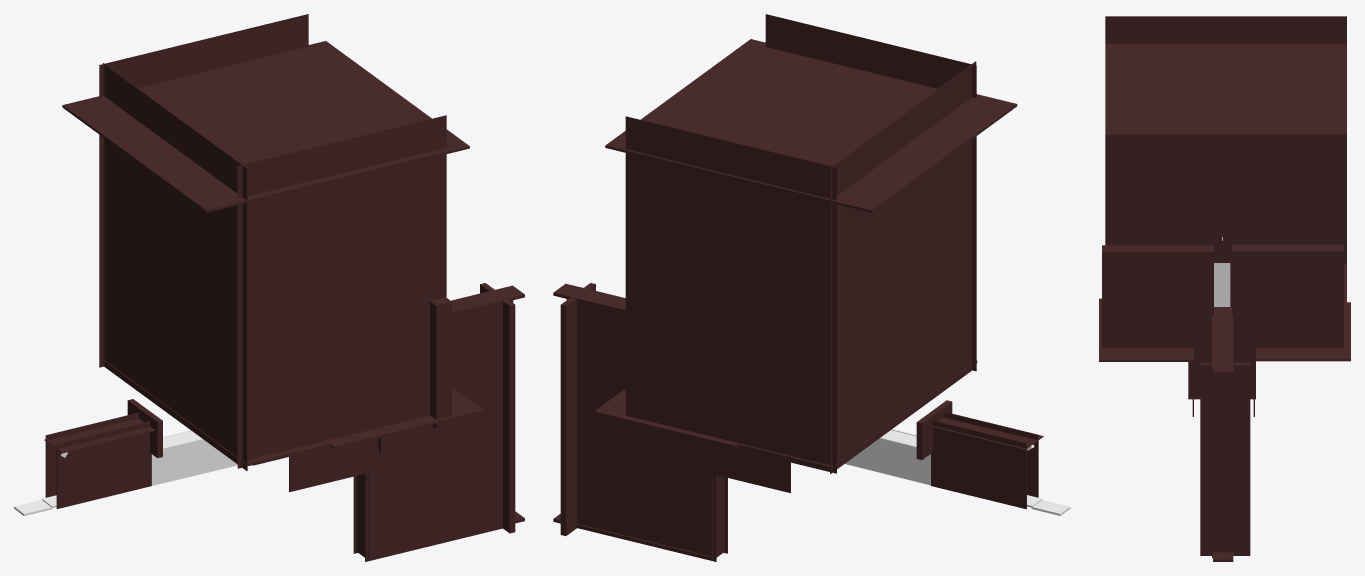
The model's file is Tutorial.fbx.
The picture shows the model from 3 angles, left to right: view 1: azimuth 30°, elevation 25°; view 2: azimuth 150°, elevation 25°; view 3: azimuth 270°, elevation 25°; orthographic projection. The views are drawn at different scales.
Parts seen in each view (by area): view 1: Cube__88_, Cube__86_, Cube__89_, Cube__71_, Cube__87_, Cube__76_, Cube__69_, Cube__72_, Cube__90_, Cube__7_, Cube__83_, Cube__77_ (+5 smaller); view 2: Cube__87_, Cube__86_, Cube__89_, Cube__70_, Cube__88_, Cube__77_, Cube__72_, Cube__68_, Cube__4_, Cube__84_, Cube__76_, Cube__75_ (+5 smaller); view 3: Cube__86_, Cube__89_, Cube__91_, Cube__90_, Cube__72_, Cube__84_, Cube__83_, Cube__75_, Cube__2_, Cube__82_, Cube__81_, Cube__70_.
Boxes of the visible parts, x1,y1,x2,y2 form: Cube__88_: [237, 115, 446, 468]; Cube__86_: [103, 63, 247, 470]; Cube__89_: [62, 41, 469, 212]; Cube__71_: [365, 298, 513, 561]; Cube__87_: [99, 14, 308, 367]; Cube__76_: [56, 421, 151, 508]; Cube__69_: [289, 437, 383, 492]; Cube__72_: [480, 283, 515, 533]; Cube__90_: [430, 297, 452, 428]; Cube__7_: [151, 438, 237, 485]; Cube__83_: [326, 387, 483, 448]; Cube__77_: [45, 413, 138, 497]; Cube__87_: [625, 116, 836, 473]; Cube__86_: [830, 61, 976, 473]; Cube__89_: [605, 39, 1017, 212]; Cube__70_: [566, 299, 716, 561]; Cube__88_: [765, 14, 976, 371]; Cube__77_: [931, 420, 1026, 509]; Cube__72_: [560, 283, 595, 535]; Cube__68_: [695, 439, 790, 492]; Cube__4_: [845, 437, 930, 485]; Cube__84_: [594, 389, 738, 447]; Cube__76_: [944, 412, 1038, 497]; Cube__75_: [553, 283, 625, 312]; Cube__86_: [1105, 16, 1346, 264]; Cube__89_: [1105, 43, 1346, 136]; Cube__91_: [1232, 244, 1343, 355]; Cube__90_: [1102, 245, 1213, 355]; Cube__72_: [1200, 362, 1250, 555]; Cube__84_: [1256, 302, 1350, 361]; Cube__83_: [1099, 298, 1193, 361]; Cube__75_: [1213, 307, 1233, 373]; Cube__2_: [1214, 263, 1230, 306]; Cube__82_: [1188, 355, 1211, 399]; Cube__81_: [1230, 263, 1255, 399]; Cube__70_: [1230, 374, 1231, 554].
Bounding box in the file's own units: 9145 × 8470 × 4749.
